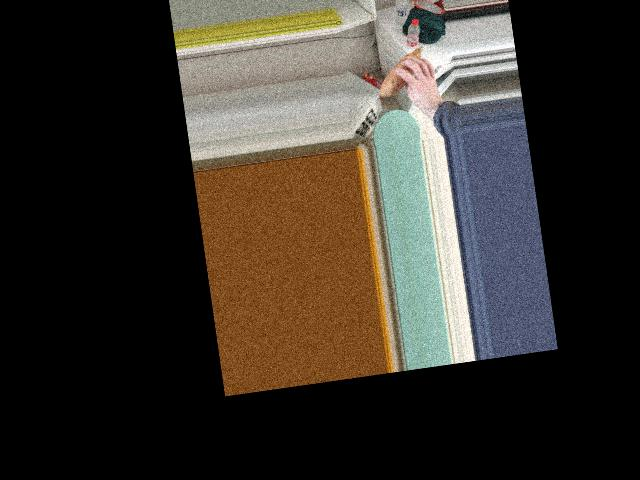sweet_potato: (377, 48, 432, 96)
